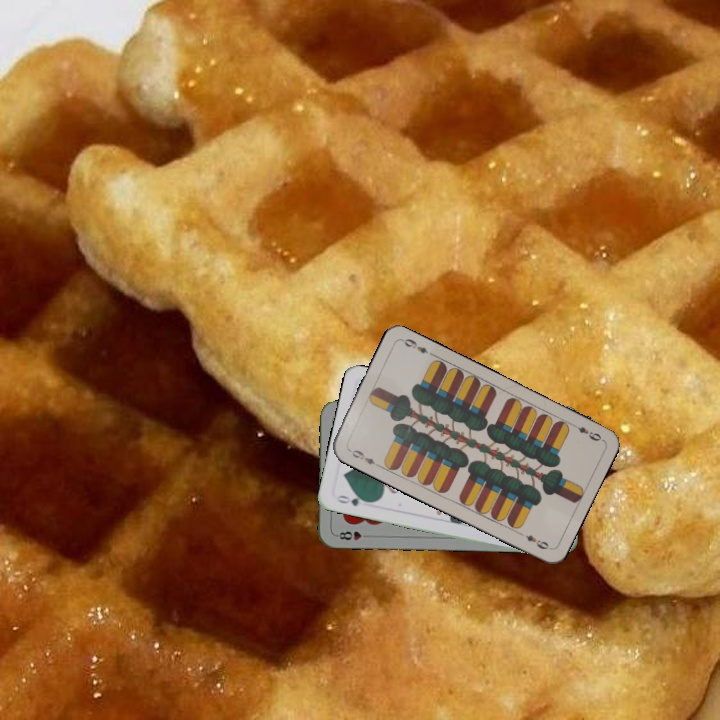E9: (344, 444, 382, 469), (567, 419, 604, 444)
GO: (332, 491, 373, 509)
H8: (332, 527, 373, 543)
